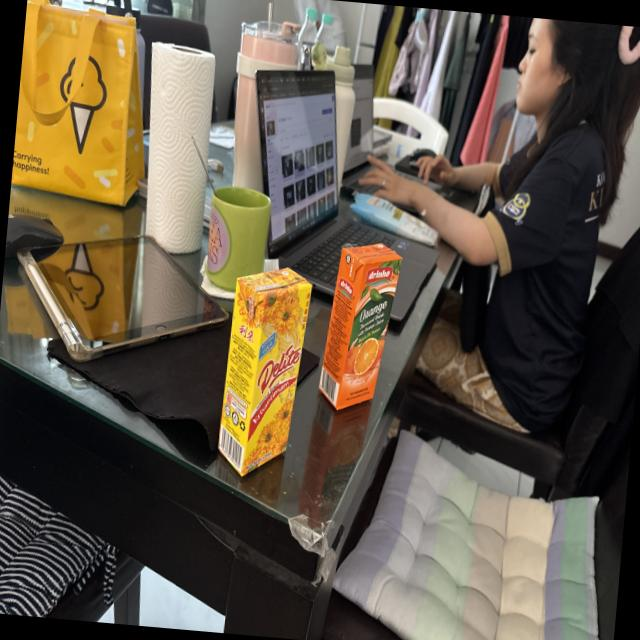drink_carton: (208, 258, 318, 488), (312, 235, 406, 418)
